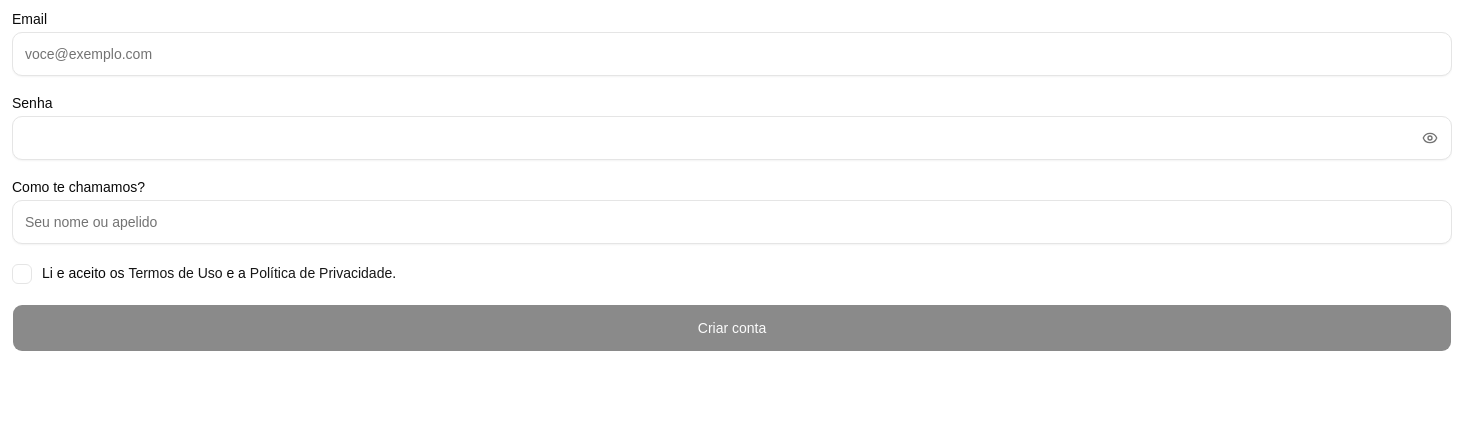
Test: SignupForm › mostra erro inline no email quando o servidor responde EMAIL_EXISTS
This screenshot has width=1464, height=428.
Type "teste@example.com" into the field labelled "Email" at (732, 54), box top-left (12, 32), bottom-right (1452, 76)
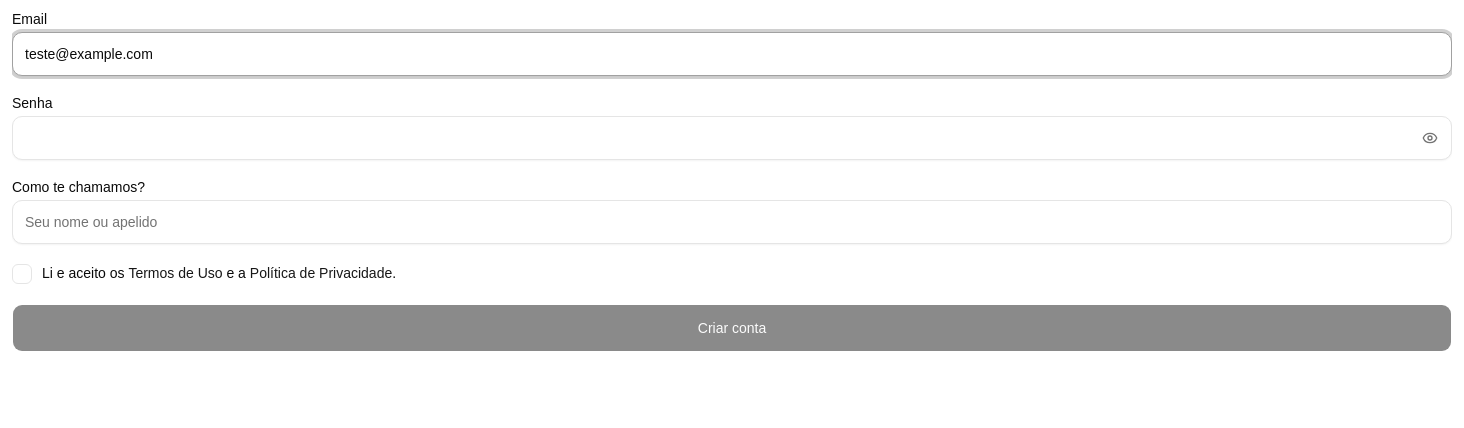
Type "senha123abc" into the password field labelled "Senha" at (732, 138), box top-left (12, 116), bottom-right (1452, 160)
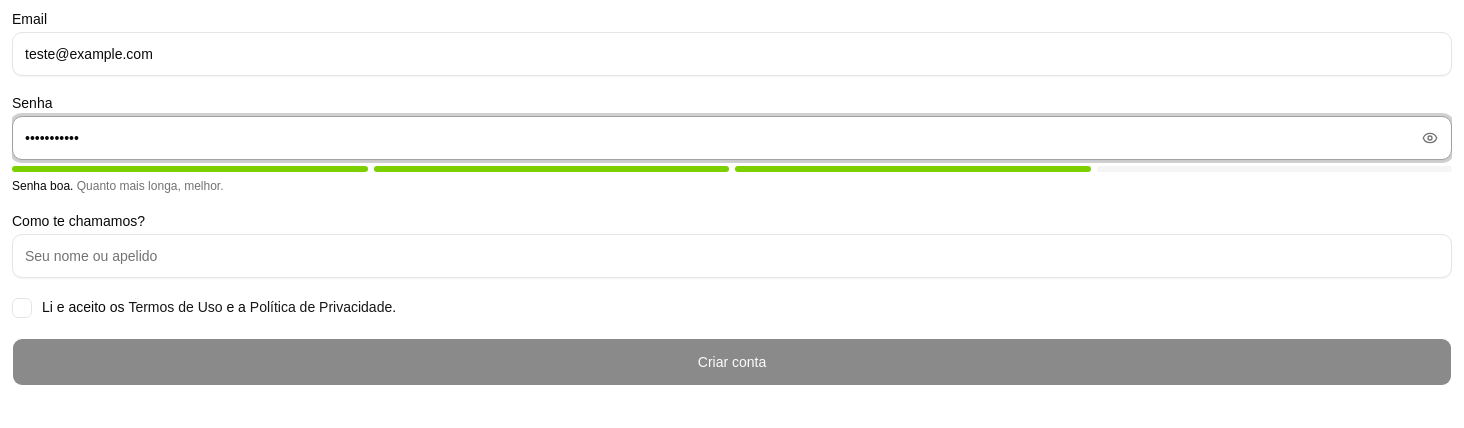
Type "Teste" into the field labelled "Como te chamamos?" at (732, 256), box top-left (12, 234), bottom-right (1452, 278)
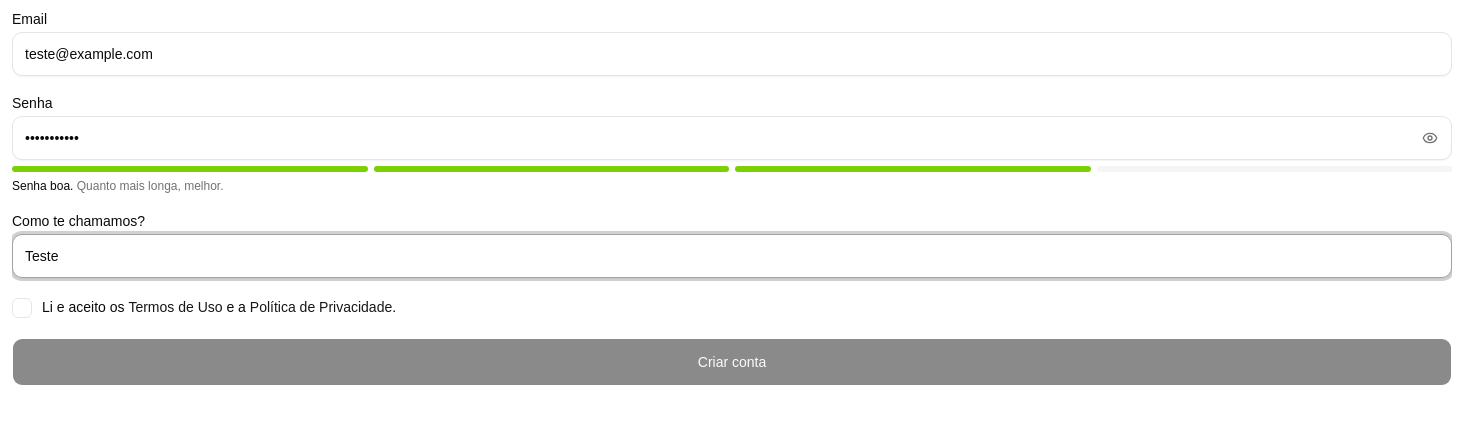
Click the checkbox at (22, 308), box top-left (12, 298), bottom-right (32, 318)
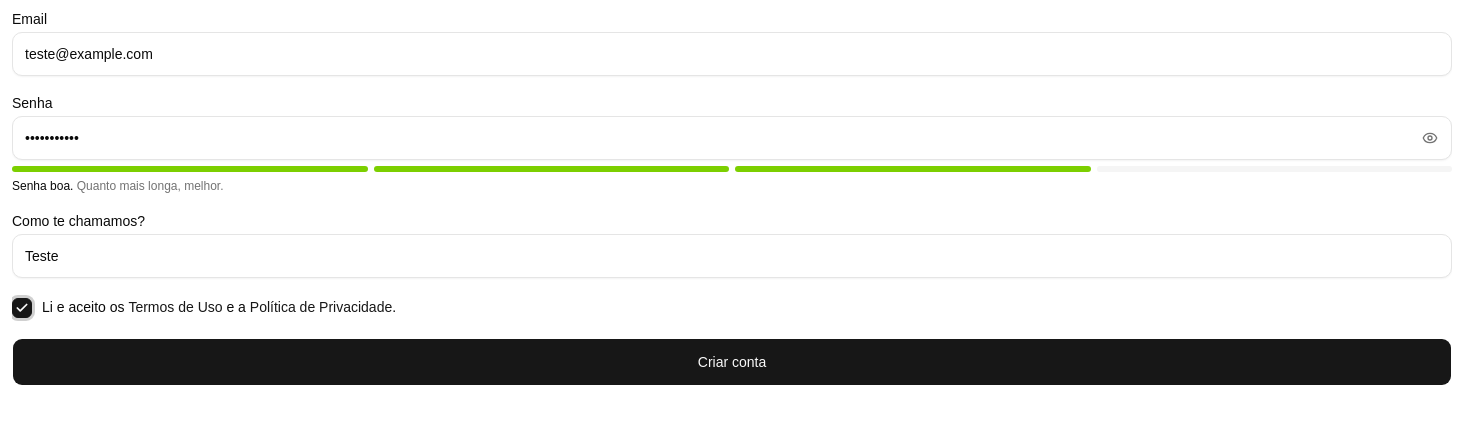
Expected: the button "Criar conta" is enabled
Click the button "Criar conta" at (732, 362), box top-left (12, 338), bottom-right (1452, 386)
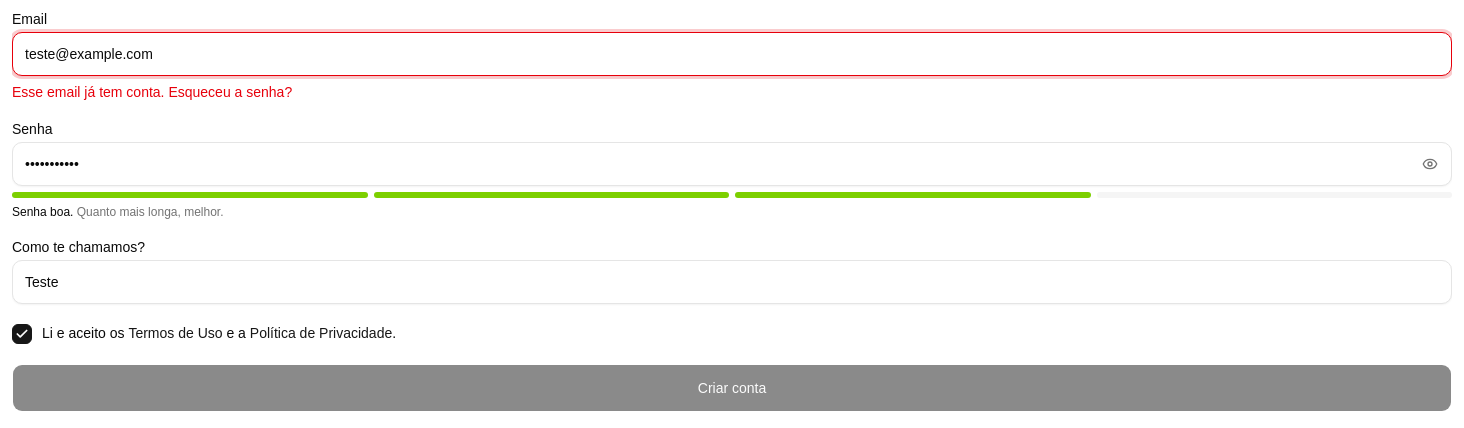
Expected: the text "Esse email já tem conta. Esqueceu a senha?" is shown, top-left (12, 84), bottom-right (292, 100)
